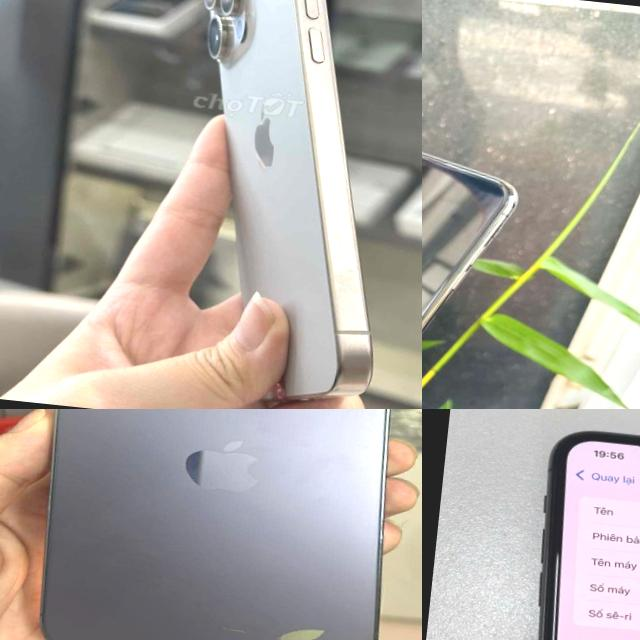gen_11: (501, 422, 640, 640)
gen_15: (131, 0, 422, 409), (21, 409, 416, 640)
